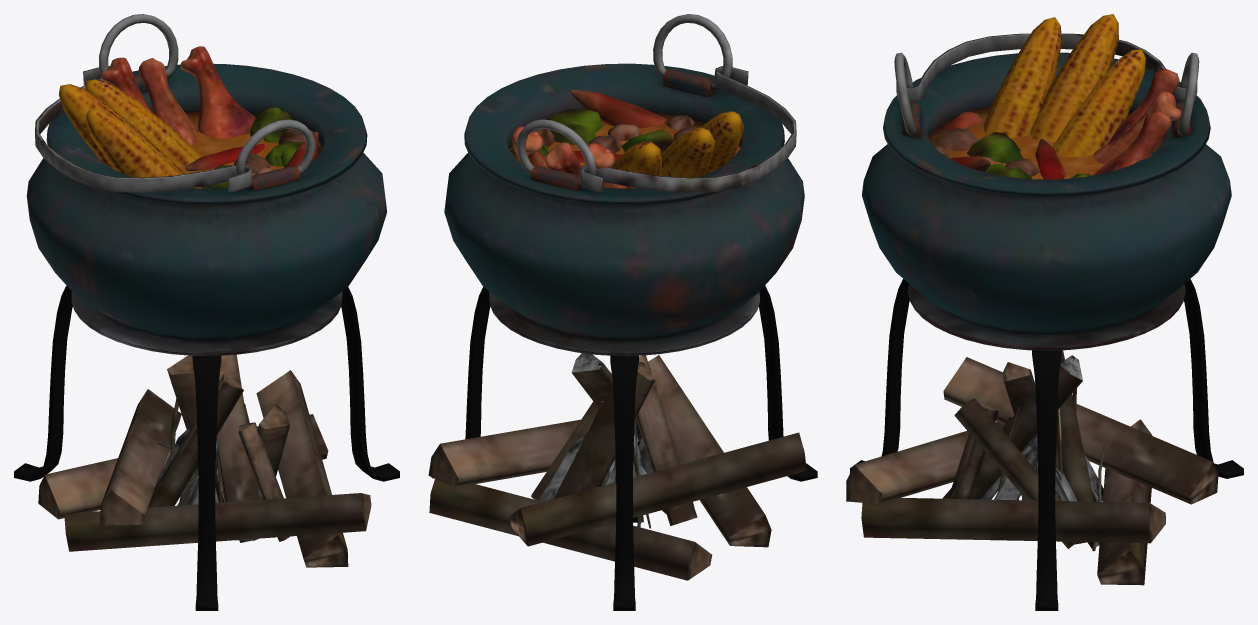
Rendered from SM_KitchenMedieval_94b14d.glb.
3 views of the same model, side by side, from view 1: azimuth 30°, elevation 25°; view 2: azimuth 150°, elevation 25°; view 3: azimuth 270°, elevation 25° (orthographic). The views are drawn at different scales.
Bounding box in the file's own units: 0.8116 × 1.03 × 0.7952.
Materials: 1 (1 with a texture image).
